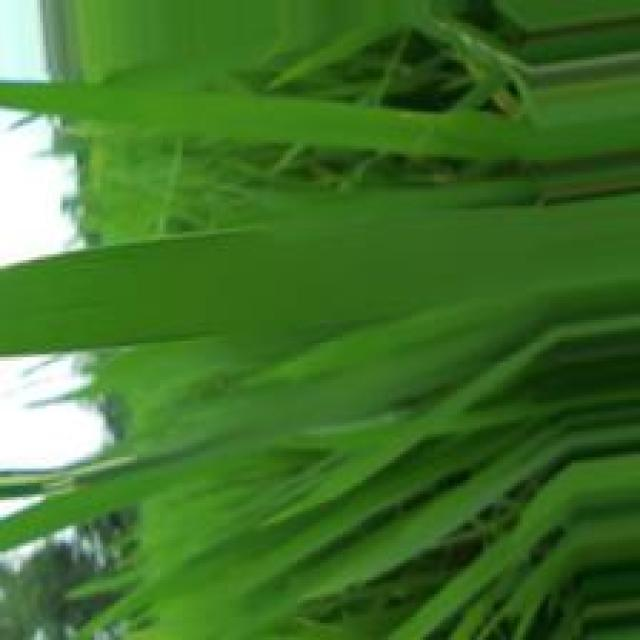HealthyLeaf: (0, 200, 640, 361)
